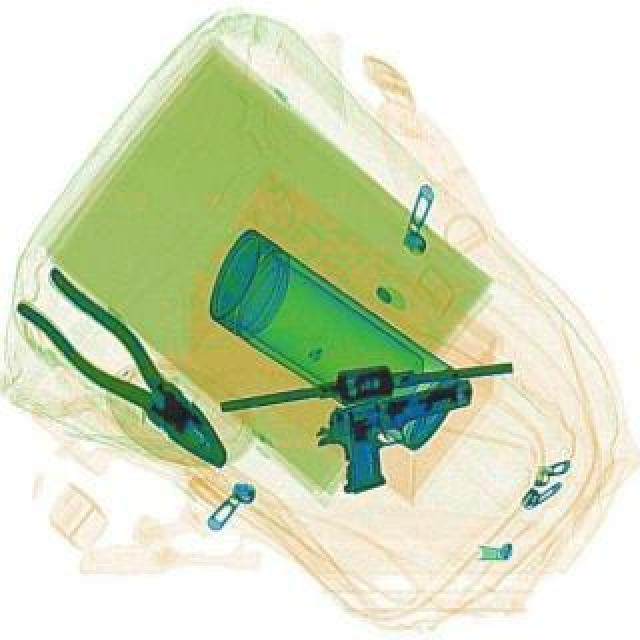gun: (306, 378, 490, 498)
wrench: (8, 260, 248, 484)
